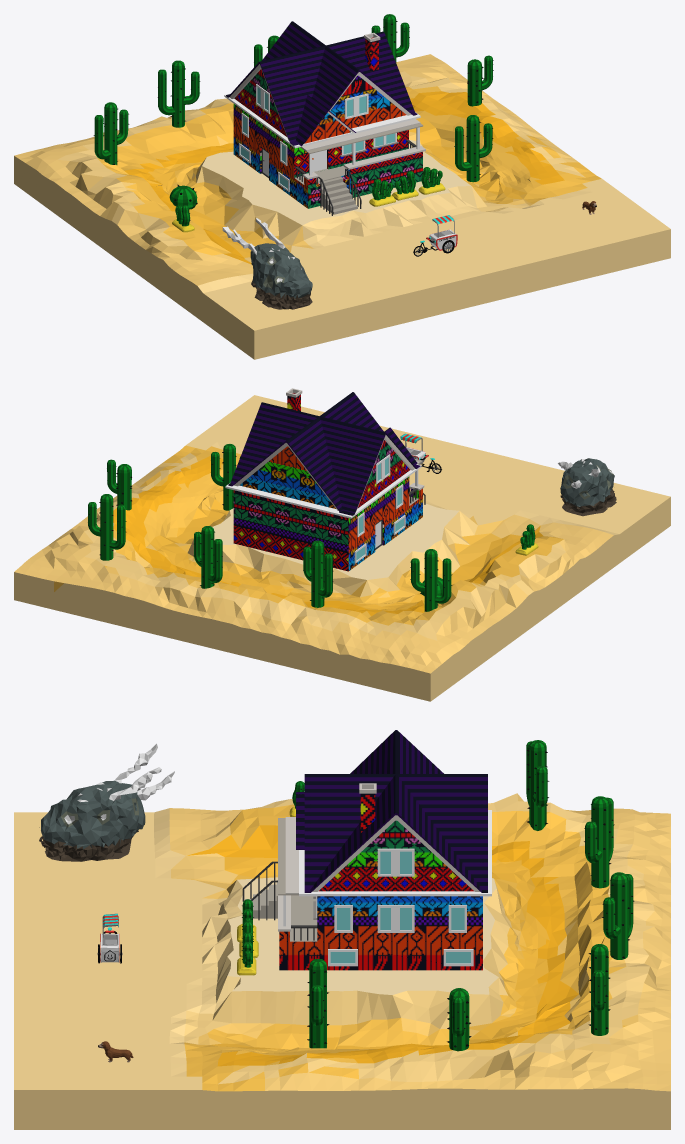
3 views of the same model, one above another, from view 1: azimuth 30°, elevation 25°; view 2: azimuth 150°, elevation 25°; view 3: azimuth 270°, elevation 25° (orthographic). The views are drawn at different scales.
Parts seen in each view (by area): view 1: Cube.001, Cube.966, OBJRANDOM_METEORITE, Cylinder.037, Cylinder.044, Cylinder.045, Cylinder.038, Cylinder.042, VEHICLES_SNOWBAL_BIKE, Cylinder.039, Cylinder.041, Sphere.023 (+1 smaller); view 2: Cube.001, Cube.966, OBJRANDOM_METEORITE, Cylinder.042, Cylinder.045, Cylinder.044, Cylinder.043, Cylinder.037, Cylinder.038, VEHICLES_SNOWBAL_BIKE; view 3: Cube.001, Cube.966, OBJRANDOM_METEORITE, Cylinder.043, Cylinder.044, Cylinder.045, Cylinder.042, Cylinder.037, Cylinder.038, VEHICLES_SNOWBAL_BIKE, Cylinder.041.
Boxes of the visible parts, x1,y1,x2,y2 form: Cube.001: (14, 54, 670, 359); Cube.966: (224, 21, 425, 215); OBJRANDOM_METEORITE: (222, 218, 312, 309); Cylinder.037: (454, 115, 493, 182); Cylinder.044: (157, 60, 200, 127); Cylinder.045: (93, 102, 129, 164); Cylinder.038: (467, 55, 493, 106); Cylinder.042: (371, 14, 409, 62); VEHICLES_SNOWBAL_BIKE: (413, 215, 457, 256); Cylinder.039: (369, 179, 395, 206); Cylinder.041: (418, 167, 445, 194); Sphere.023: (169, 184, 197, 209); Cube.001: (14, 395, 670, 701); Cube.966: (225, 388, 425, 571); OBJRANDOM_METEORITE: (558, 458, 616, 516); Cylinder.042: (88, 494, 126, 560); Cylinder.045: (410, 549, 452, 611); Cylinder.044: (303, 540, 333, 607); Cylinder.043: (193, 526, 222, 588); Cylinder.037: (211, 444, 240, 510); Cylinder.038: (107, 459, 131, 510); VEHICLES_SNOWBAL_BIKE: (400, 433, 441, 473); Cube.001: (14, 793, 670, 1129); Cube.966: (242, 730, 491, 970); OBJRANDOM_METEORITE: (39, 743, 174, 861); Cylinder.043: (602, 872, 634, 959); Cylinder.044: (584, 796, 614, 888); Cylinder.045: (526, 740, 549, 830); Cylinder.042: (588, 944, 610, 1035); Cylinder.037: (307, 959, 329, 1048); Cylinder.038: (447, 988, 471, 1051); VEHICLES_SNOWBAL_BIKE: (97, 913, 122, 963); Cylinder.041: (237, 932, 256, 975).
Bounding box in the file's own units: 4002 × 1630 × 4001.
35 materials, 6 textured.
